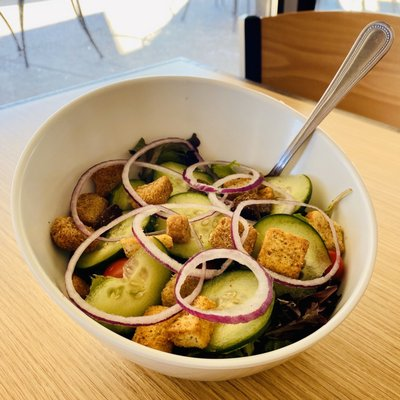salad: (265, 21, 394, 177)
sushi: (24, 121, 382, 383)
